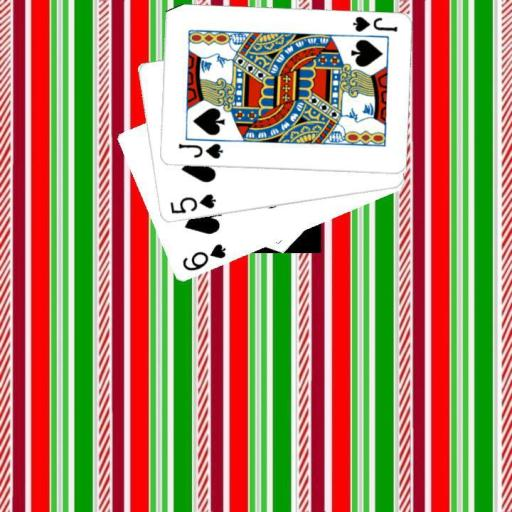5S: (166, 192, 217, 216)
6S: (179, 240, 228, 273)
JS: (175, 141, 224, 161), (349, 15, 398, 34)
